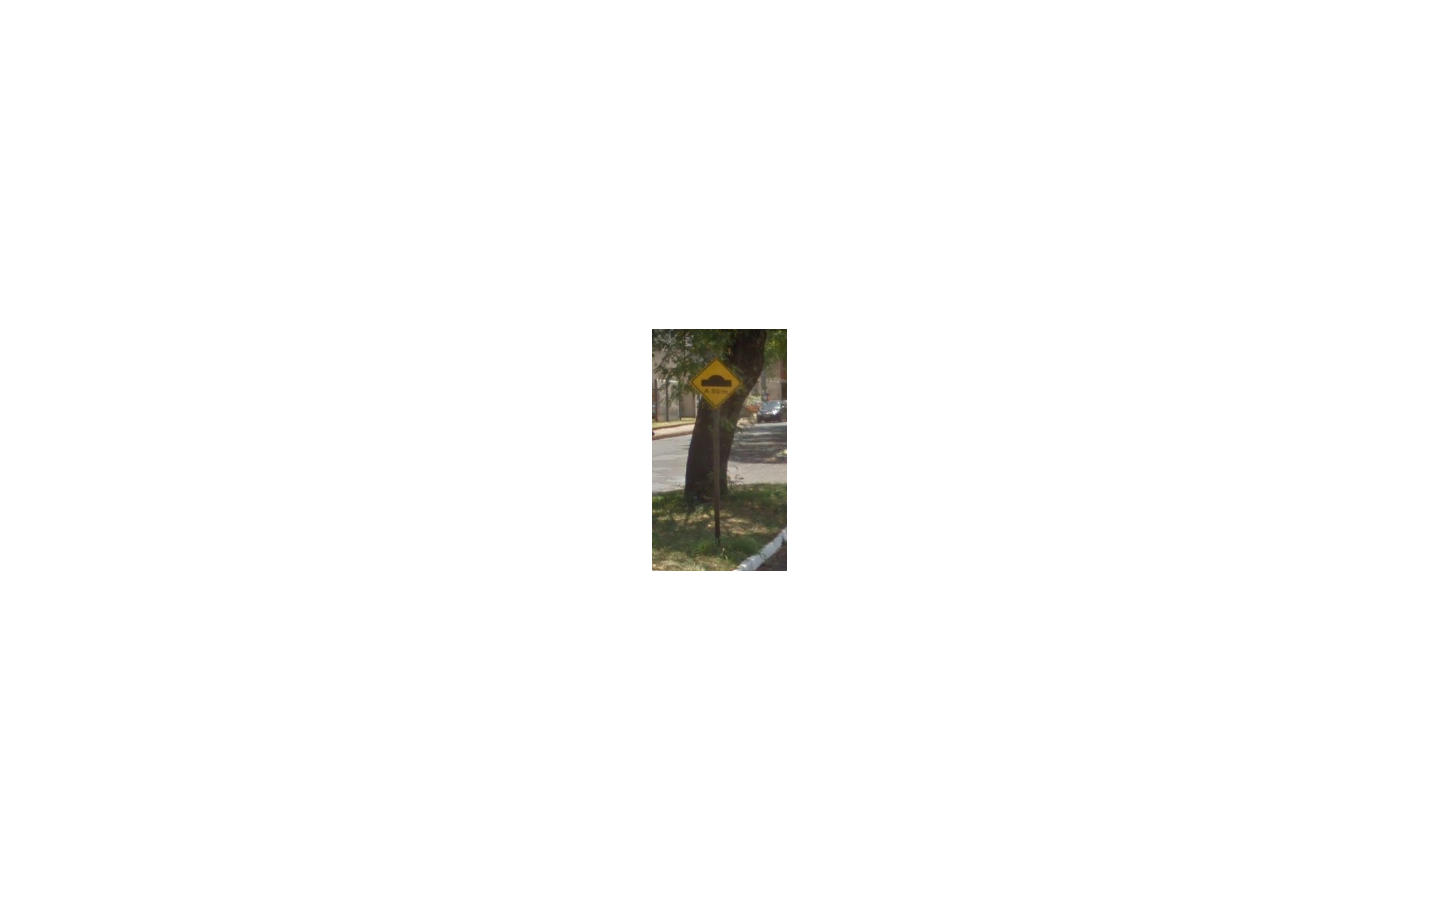l50m: (690, 358, 742, 409)
